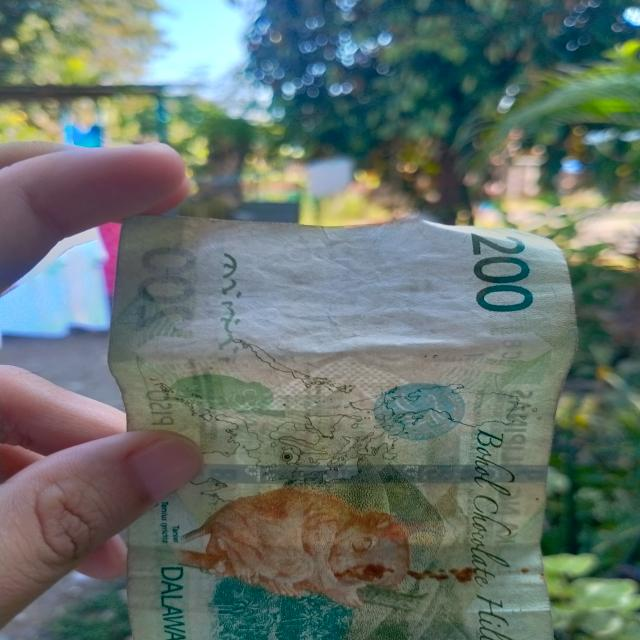security_thread: (189, 463, 552, 482)
see_through_mark: (194, 240, 250, 389)
